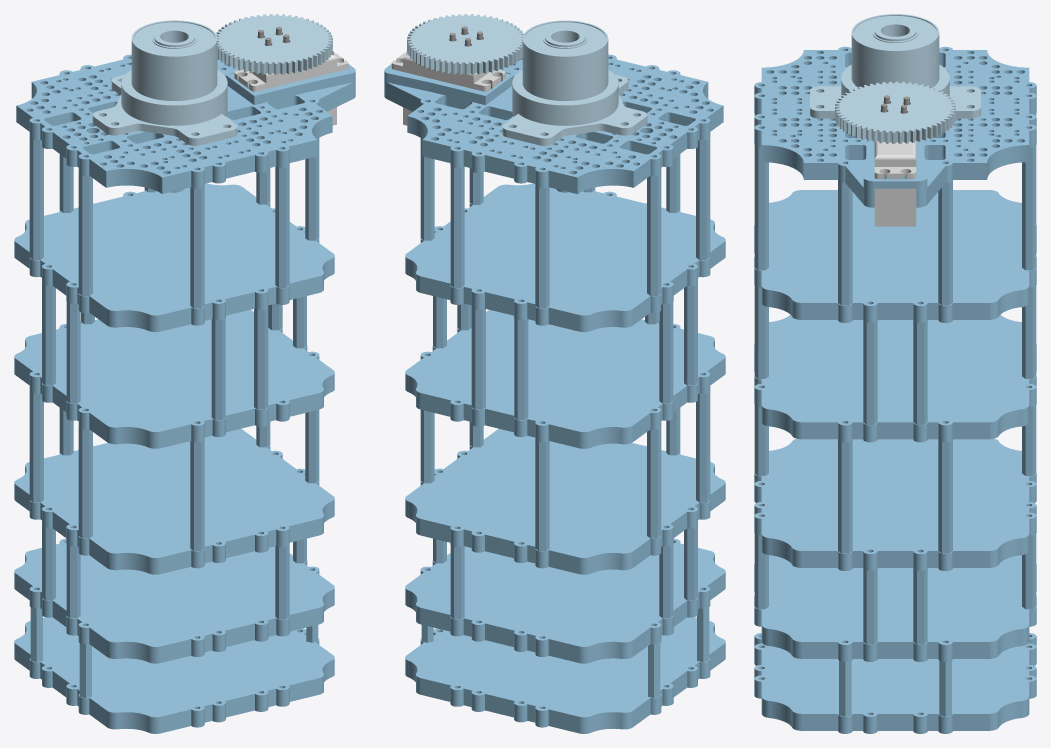
Rendered from turtlebot_vehicle_model.dae.
3 views of the same model, side by side, from view 1: azimuth 30°, elevation 25°; view 2: azimuth 150°, elevation 25°; view 3: azimuth 270°, elevation 25° (orthographic). The views are drawn at different scales.
Parts seen in each view (by area): view 1: 68654d571c2547346f7081b7 (×6); view 2: 68654d571c2547346f7081b7 (×6); view 3: 68654d571c2547346f7081b7 (×6).
Part boxes in pixels (left/top/right/bottom): 68654d571c2547346f7081b7 (×6): left=14, top=14, right=355, bottom=733; 68654d571c2547346f7081b7 (×6): left=384, top=14, right=725, bottom=733; 68654d571c2547346f7081b7 (×6): left=754, top=14, right=1036, bottom=733.
Size of the model in its own units: 0.163 by 0.135 by 0.34.
